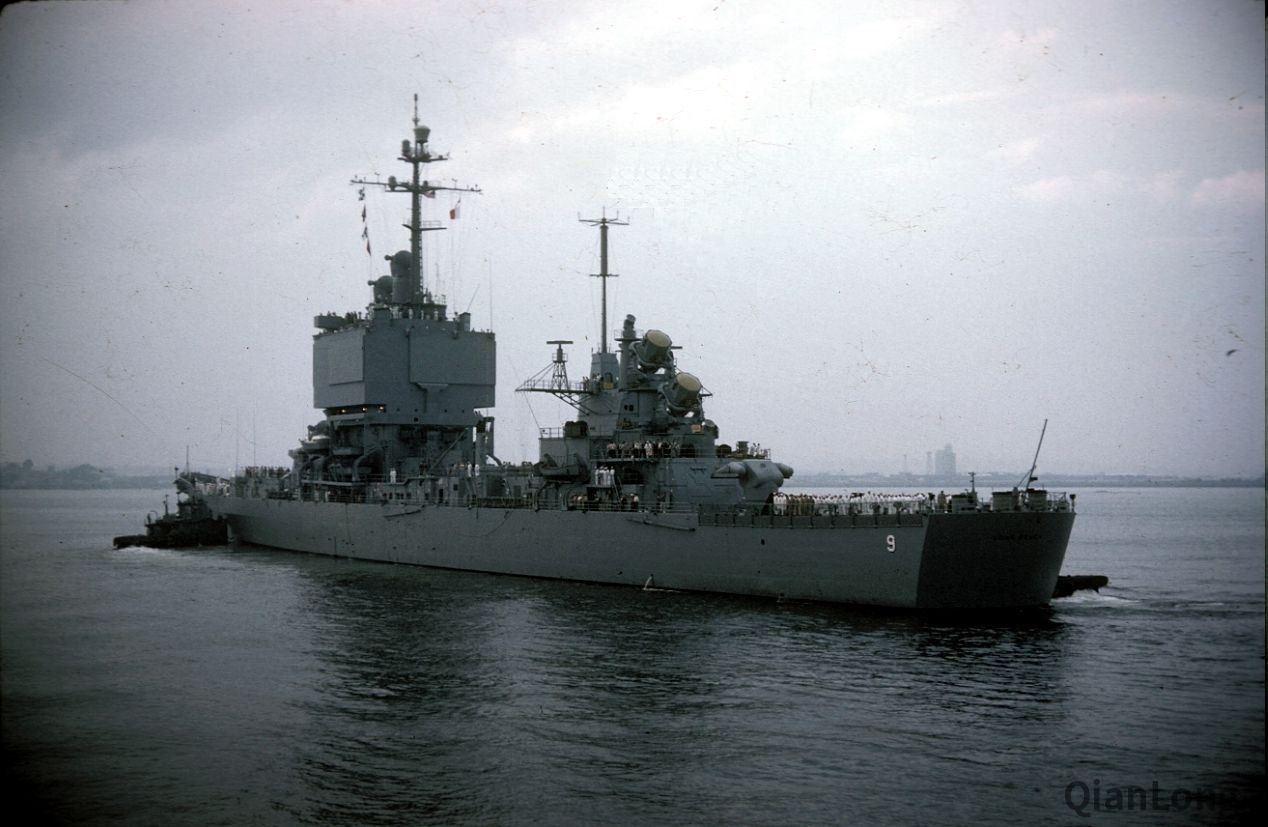otherboat: (106, 473, 232, 557)
warship: (188, 124, 1078, 647)
